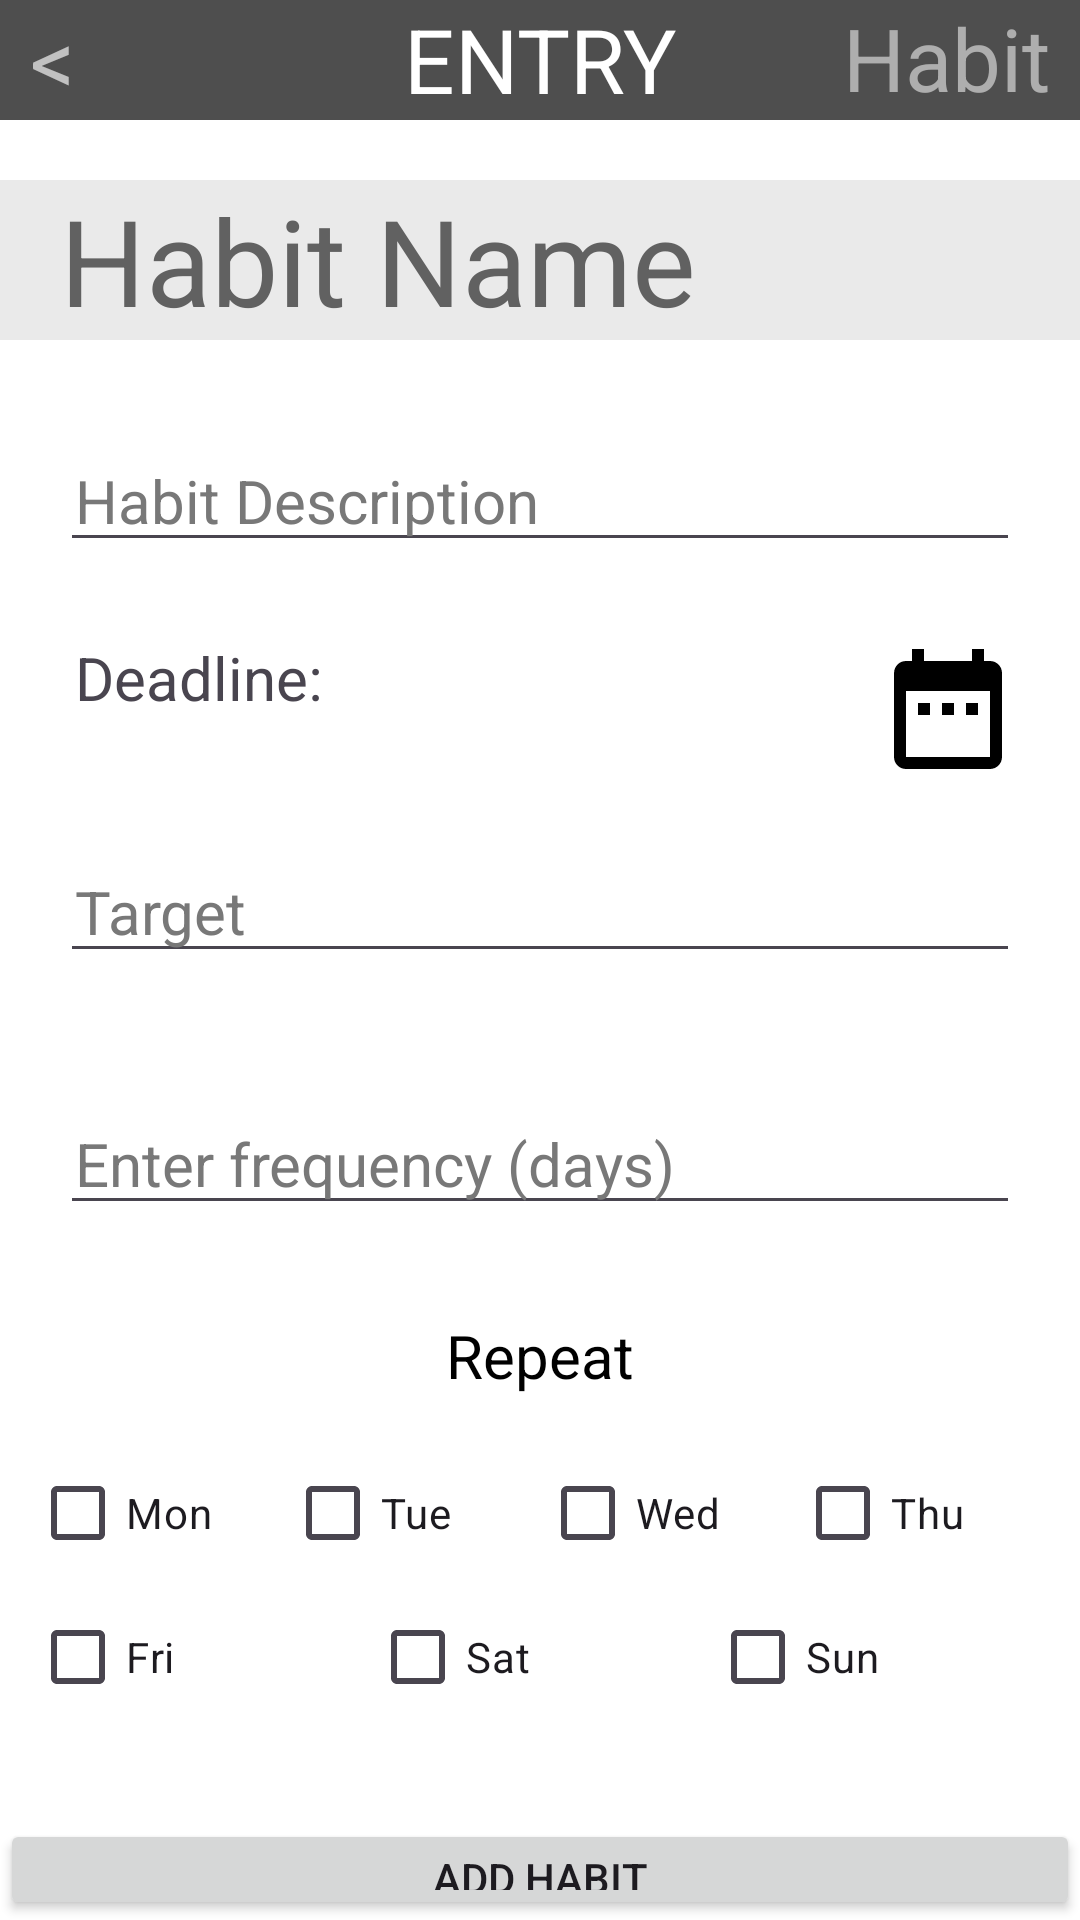

Screen size 1080*1920. Icon name, then its box in pixels as bbox=(x1, y1, x2, y2):
Datepicker: bbox=(894, 649, 1002, 769)
